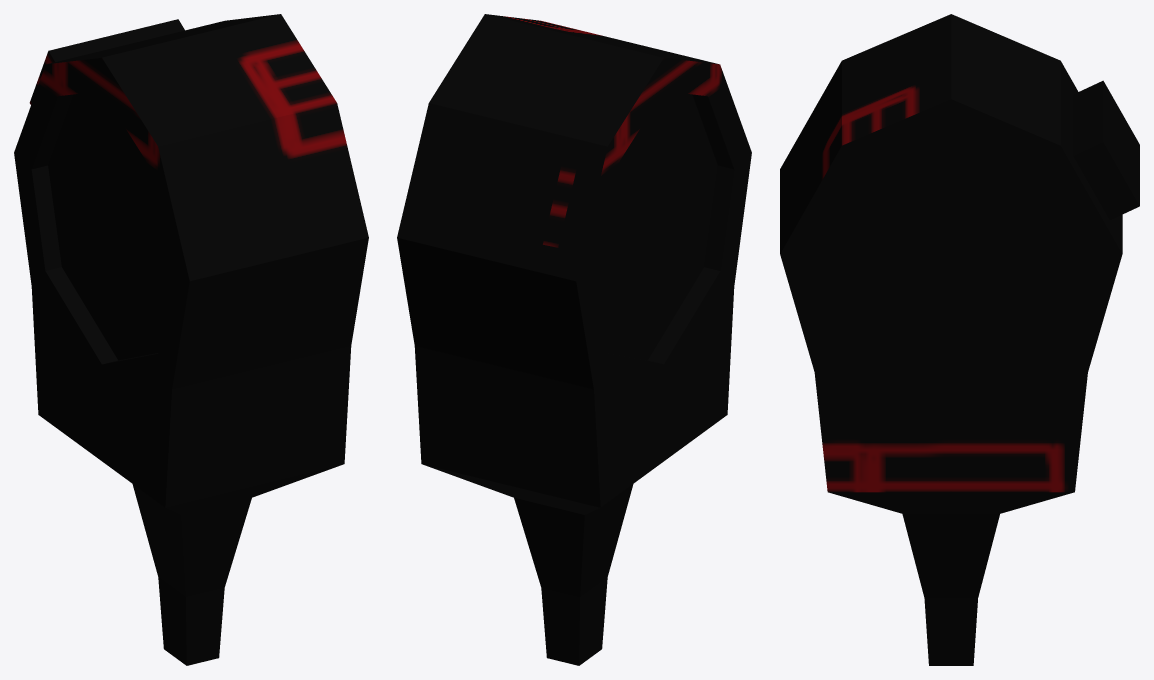
File: CarRadio.fbx
3 views of the same model, side by side, from view 1: azimuth 30°, elevation 25°; view 2: azimuth 150°, elevation 25°; view 3: azimuth 270°, elevation 25° (orthographic). The views are drawn at different scales.
Visible parts, largest first — view 1: CarRadio; view 2: CarRadio; view 3: CarRadio.
Part boxes in pixels (<box>): CarRadio: <box>14,14,368,665</box>; CarRadio: <box>397,14,751,665</box>; CarRadio: <box>780,14,1139,665</box>.
Size of the model in its own units: 11.77 by 38.78 by 21.02.
